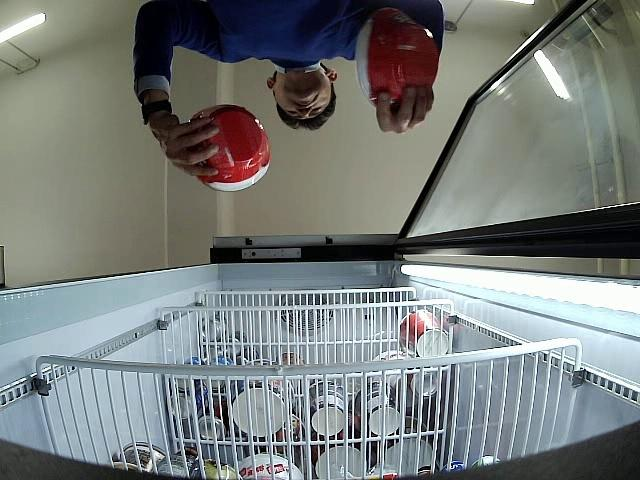00_hand: (148, 115, 219, 176), (377, 85, 434, 134)
10_wangTtukkeong: (356, 7, 439, 108), (191, 105, 271, 192)
